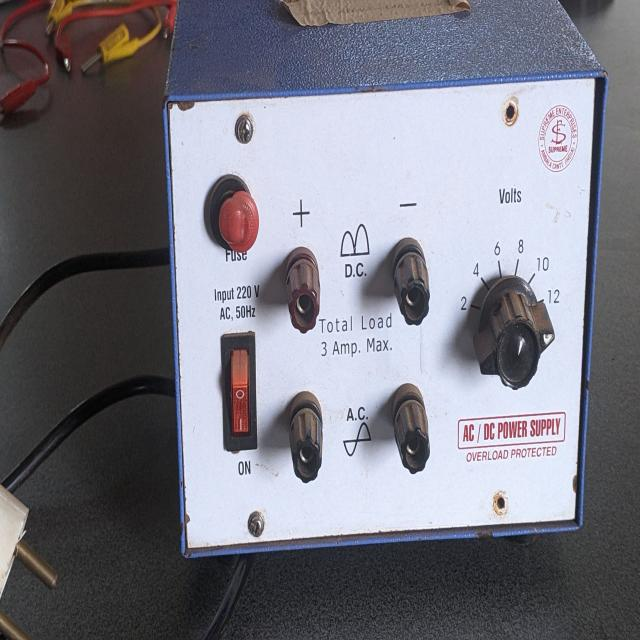Analog DC Power Supply: (156, 69, 608, 556)
